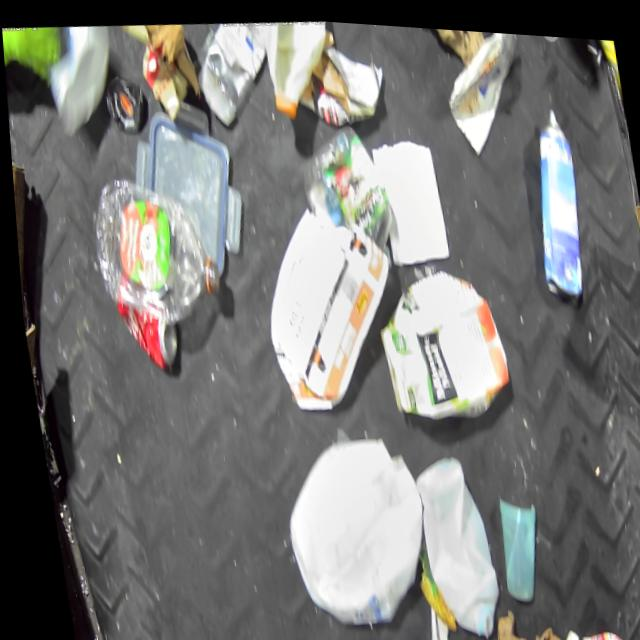can: (515, 94, 591, 292), (109, 287, 178, 371)
milk_jug: (263, 421, 433, 633), (403, 441, 499, 637), (258, 14, 342, 118)
non_white_jug: (362, 254, 513, 426)
plastic_bottle: (79, 162, 223, 326), (186, 14, 282, 129)
